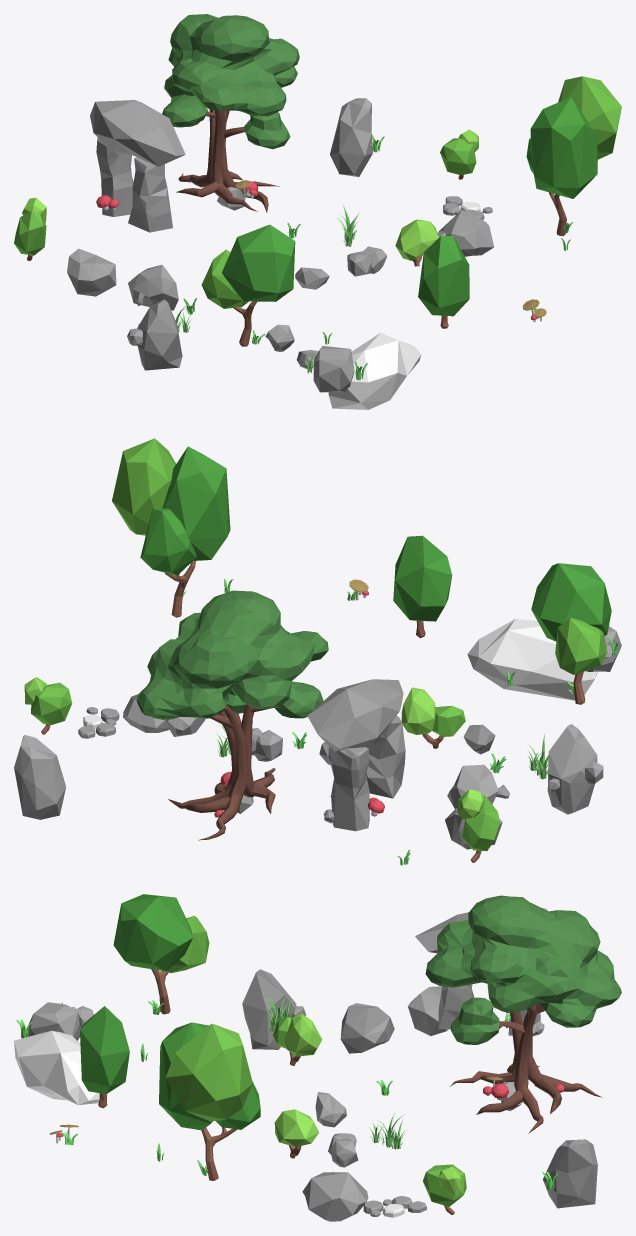
Rendered from arboles_piedras_pasto_y_hongos_low_poly.glb.
3 renders of one model, top to bottom at view 1: azimuth 30°, elevation 25°; view 2: azimuth 150°, elevation 25°; view 3: azimuth 270°, elevation 25°, orthographic. The views are drawn at different scales.
Visible parts, largest first — view 1: Mball.016_3, Cube_34, Cube.030_2, Cube.035_1, Icosphere.008_28, Icosphere.019_0, Icosphere.012_23, Cube.022_21, Cube.021_22, Cube.017_27, Icosphere.004_31, Cube.018_25 (+5 smaller); view 2: Mball.016_3, Cube.030_2, Cube_34, Cube.035_1, Icosphere.008_28, Icosphere.019_0, Icosphere.012_23, Cube.022_21, Cube.031_7, Cube.041_4, Cube.039_6, Cube.018_25 (+4 smaller); view 3: Mball.016_3, Cube.030_2, Cube.035_1, Icosphere.008_28, Icosphere.019_0, Icosphere.012_23, Cube.022_21, Icosphere.004_31, Cube.018_25, Cube_34, Cube.031_7, Cube.039_6 (+6 smaller).
Boxes of the visible parts, left/top/right/bottom form: Mball.016_3: left=162, top=14, right=299, bottom=212; Cube_34: left=90, top=100, right=185, bottom=232; Cube.030_2: left=526, top=76, right=621, bottom=236; Cube.035_1: left=201, top=224, right=295, bottom=346; Icosphere.008_28: left=328, top=333, right=421, bottom=409; Icosphere.019_0: left=418, top=236, right=469, bottom=328; Icosphere.012_23: left=330, top=98, right=372, bottom=176; Cube.022_21: left=137, top=299, right=182, bottom=370; Cube.021_22: left=67, top=248, right=116, bottom=296; Cube.017_27: left=313, top=346, right=354, bottom=392; Icosphere.004_31: left=438, top=210, right=494, bottom=256; Cube.018_25: left=128, top=264, right=178, bottom=310; Mball.016_3: left=136, top=590, right=328, bottom=840; Cube.030_2: left=112, top=438, right=230, bottom=617; Cube_34: left=307, top=679, right=405, bottom=831; Cube.035_1: left=531, top=563, right=611, bottom=704; Icosphere.008_28: left=467, top=619, right=597, bottom=700; Icosphere.019_0: left=393, top=535, right=452, bottom=638; Icosphere.012_23: left=14, top=734, right=65, bottom=819; Cube.022_21: left=547, top=724, right=597, bottom=814; Cube.031_7: left=401, top=687, right=465, bottom=748; Cube.041_4: left=457, top=789, right=500, bottom=862; Cube.039_6: left=24, top=677, right=72, bottom=734; Cube.018_25: left=447, top=764, right=498, bottom=808; Mball.016_3: left=425, top=895, right=621, bottom=1133; Cube.030_2: left=159, top=1022, right=260, bottom=1180; Cube.035_1: left=113, top=894, right=209, bottom=1014; Icosphere.008_28: left=14, top=1030, right=107, bottom=1105; Icosphere.019_0: left=80, top=1006, right=129, bottom=1108; Icosphere.012_23: left=543, top=1139, right=597, bottom=1208; Cube.022_21: left=242, top=969, right=296, bottom=1049; Icosphere.004_31: left=302, top=1172, right=368, bottom=1221; Cube.018_25: left=340, top=1003, right=394, bottom=1053; Cube_34: left=415, top=908, right=547, bottom=1035; Cube.031_7: left=273, top=1013, right=322, bottom=1065; Cube.039_6: left=423, top=1164, right=466, bottom=1214.
Size of the model in its own units: 5.88 by 2.69 by 6.07.
